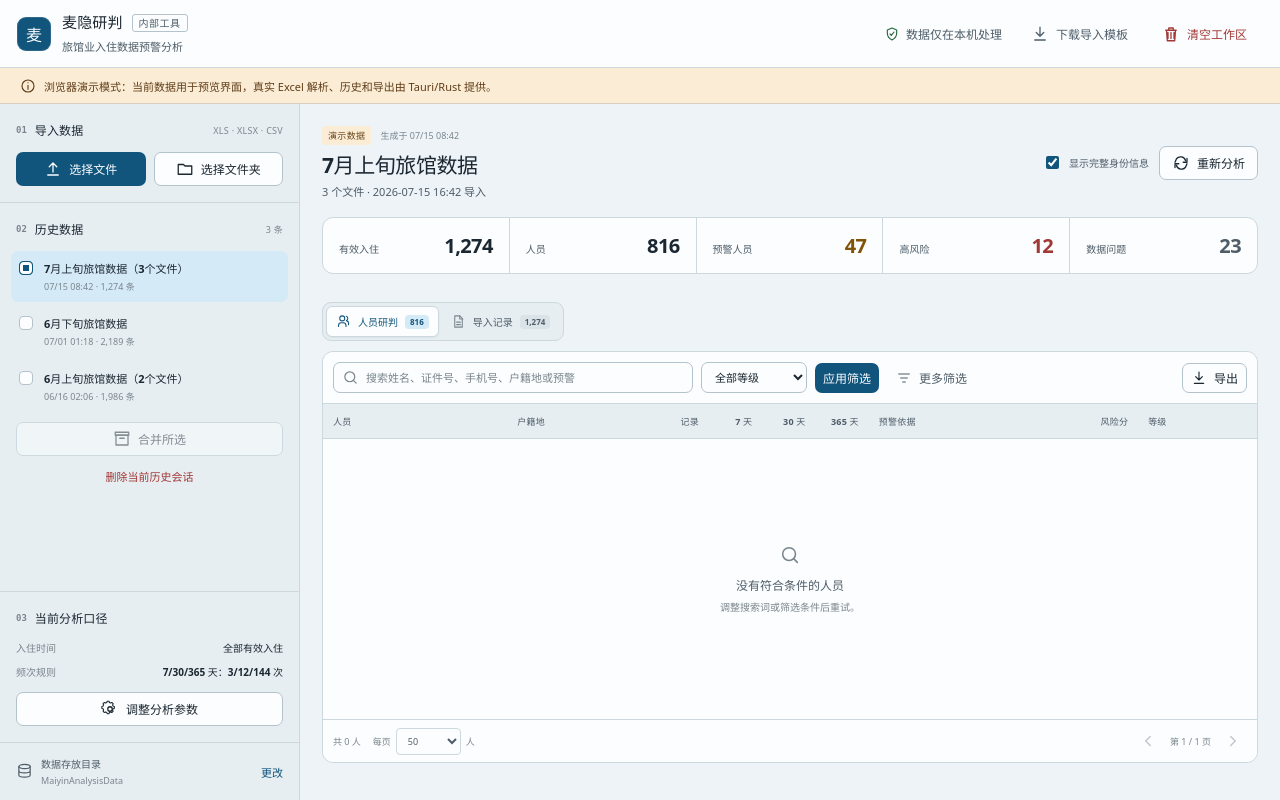
Test case: App › applies imported-records filters and resets to the first page
This screenshot has width=1280, height=800.
Expected: the heading "7月上旬旅馆数据" is shown, 322,152 -> 486,178
Click the tab "导入记录 1,274". click: (500, 322)
box: 441,306 -> 560,337
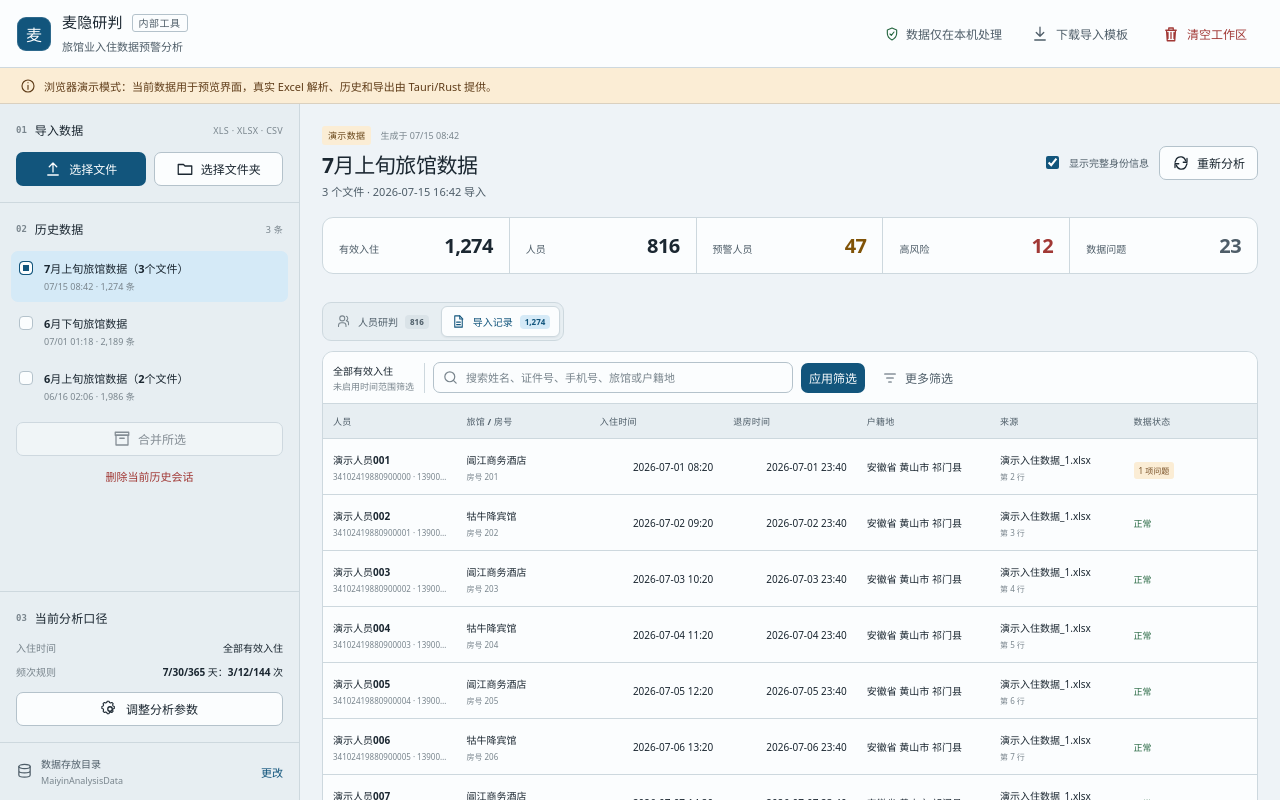
Expected: the text "演示人员001" is shown, 333,453 -> 390,467
Click the button "更多筛选". click: (918, 378)
box: 873,363 -> 962,393
(page scrolled)
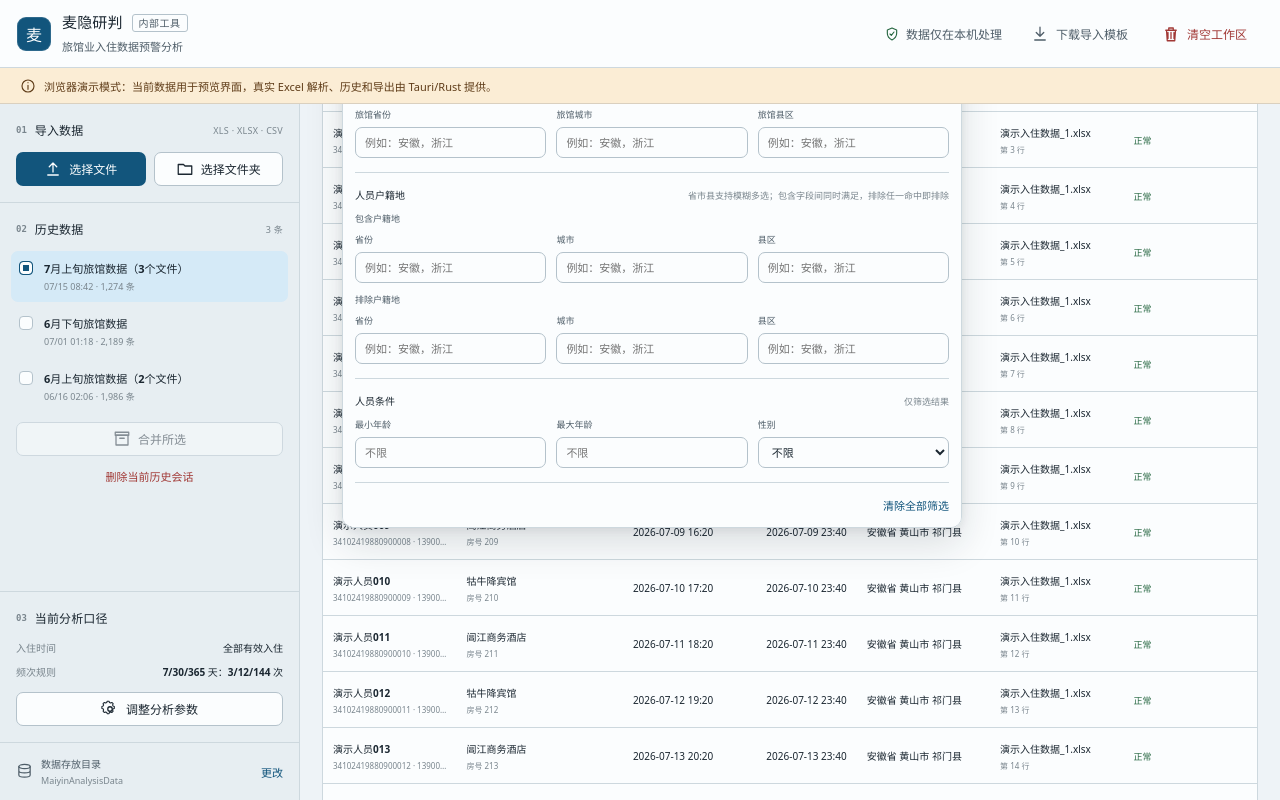
Select "女" in the dropdown labelled "性别". click: (853, 452)
box: 758,437 -> 949,468
(page scrolled)
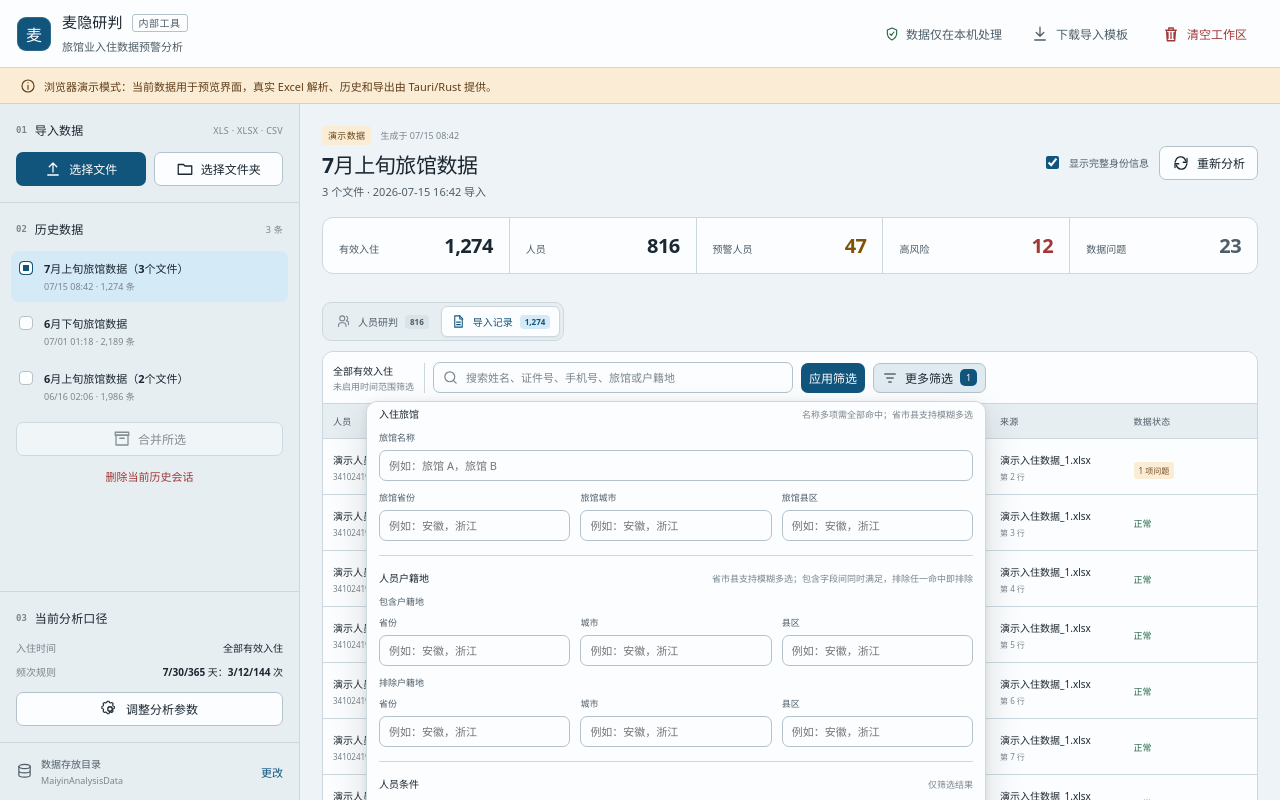
Click the button "应用筛选". click: (833, 378)
box: 801,363 -> 865,393
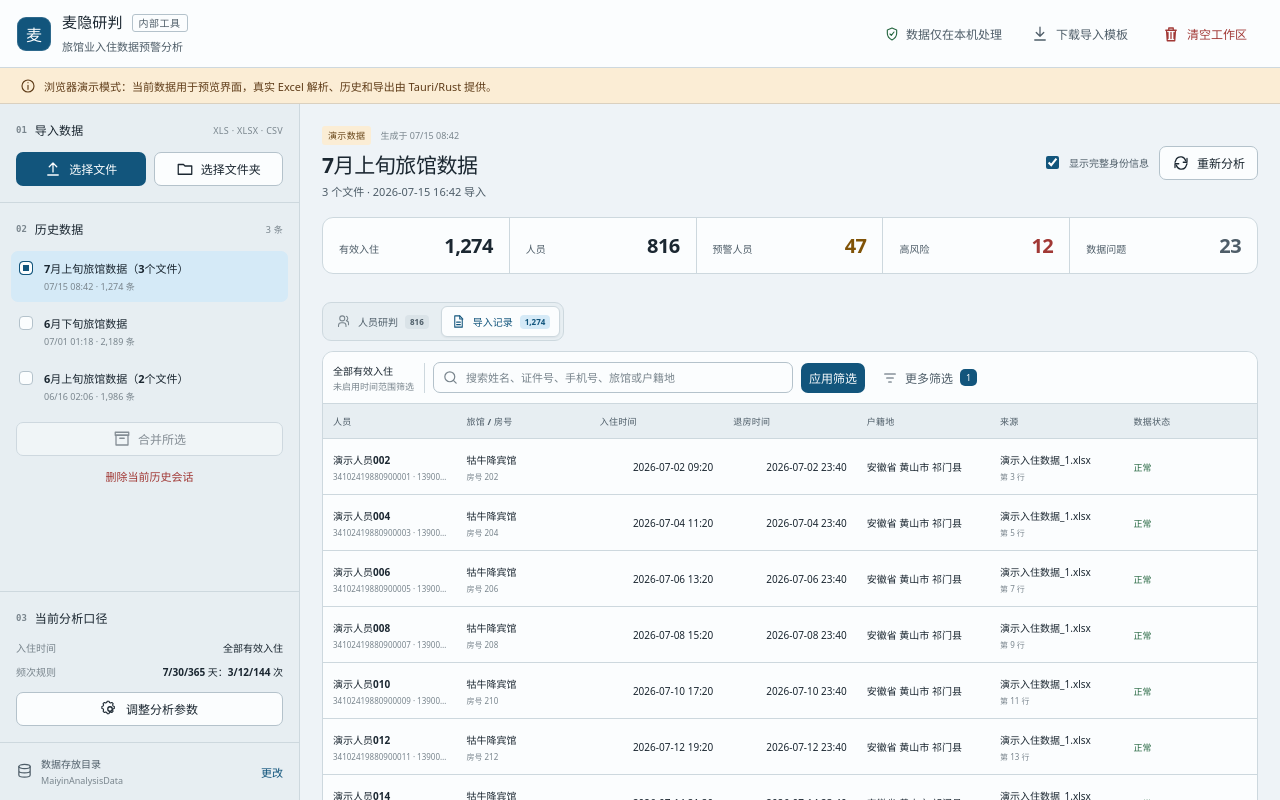
Click the button "更多筛选 1". click: (930, 378)
box: 873,363 -> 986,393
(page scrolled)
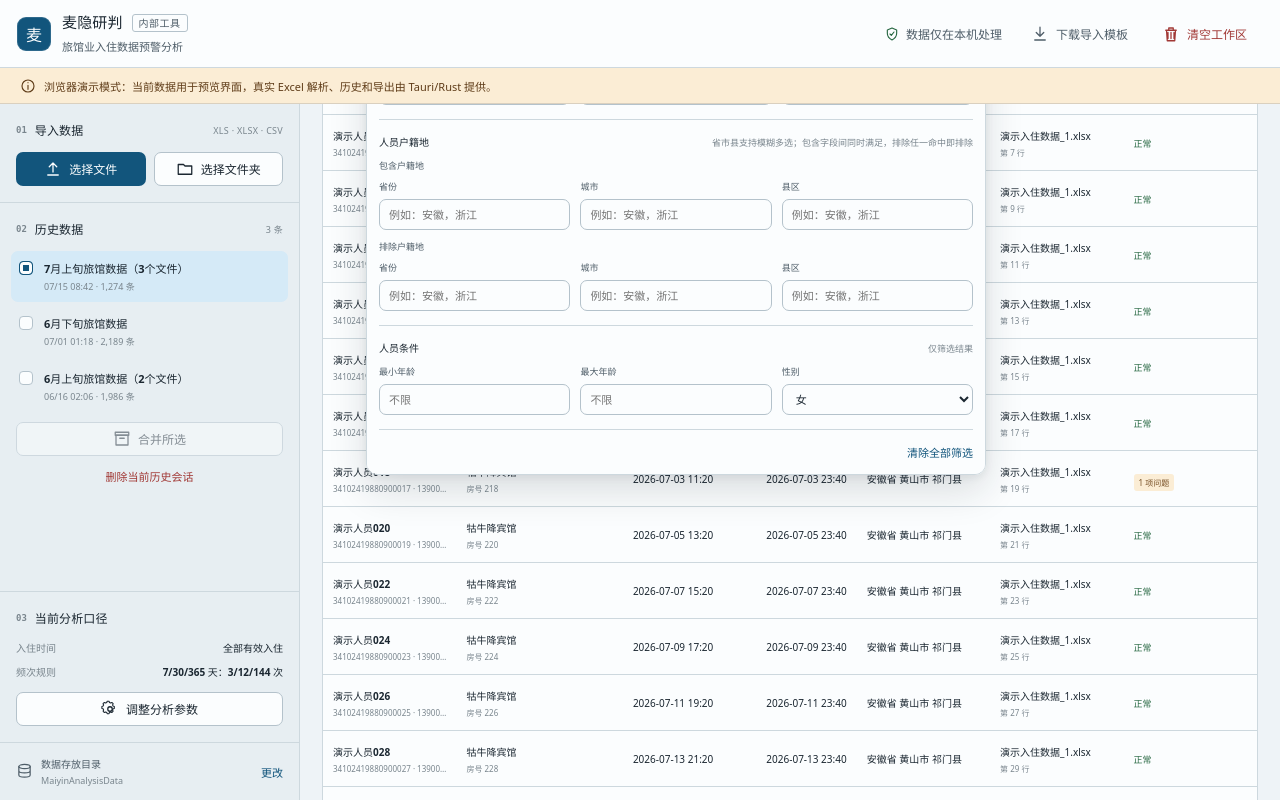
Click the button "清除全部筛选". click: (940, 452)
box: 907,442 -> 973,462
(page scrolled)
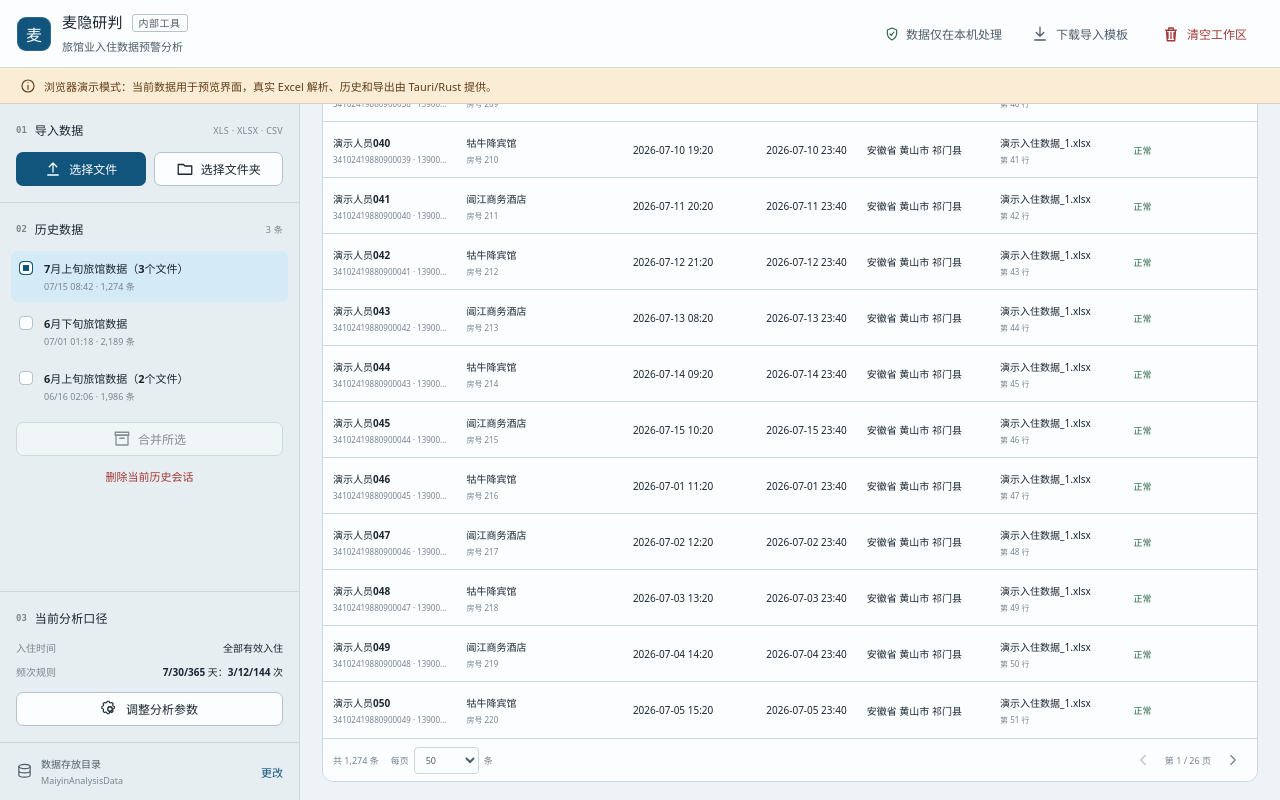
Expected: the text "共 1,274 条" is shown, 333,754 -> 379,767
